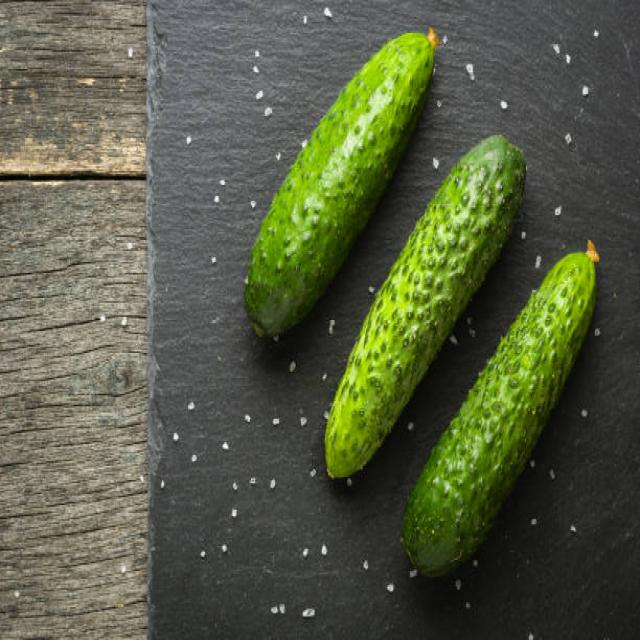cucumber: (324, 135, 528, 478), (399, 247, 598, 585), (248, 33, 434, 337)
